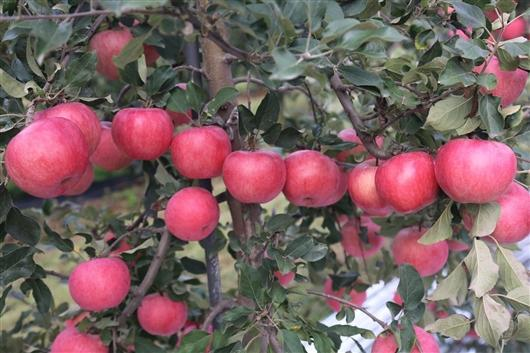apple: (4, 117, 89, 198), (434, 136, 516, 203), (461, 180, 529, 242), (374, 151, 441, 211), (33, 102, 101, 157), (87, 27, 161, 77), (282, 150, 345, 208), (111, 107, 175, 164), (221, 151, 287, 205), (170, 124, 232, 180), (68, 255, 129, 311), (165, 184, 219, 241), (390, 225, 448, 277), (137, 293, 188, 336), (349, 159, 390, 211), (51, 326, 111, 353)
